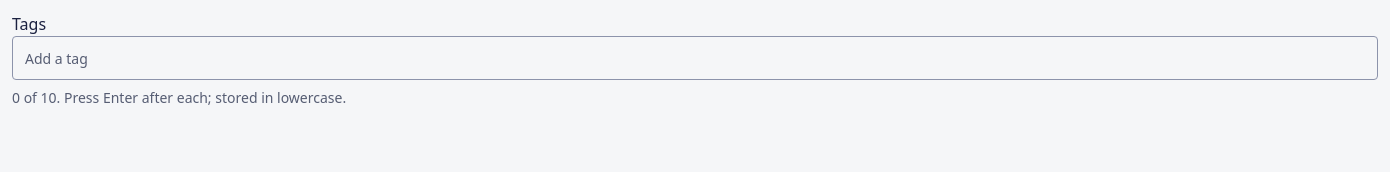
Scenario: TagInput › refuses a tag the API would refuse, says why, and keeps the text to fix
The width and height of the screenshot is (1390, 172).
Type "a/b" into the field labelled "Tags" at coordinates (695, 58), box [12, 36, 1378, 80]
Then press Enter
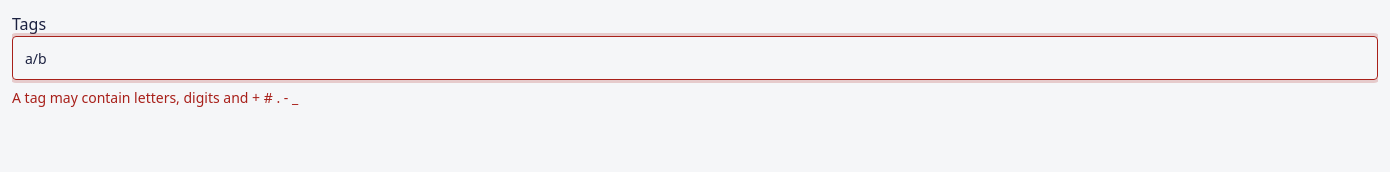
Expected: the message shows "may contain", [12, 88, 298, 107]
